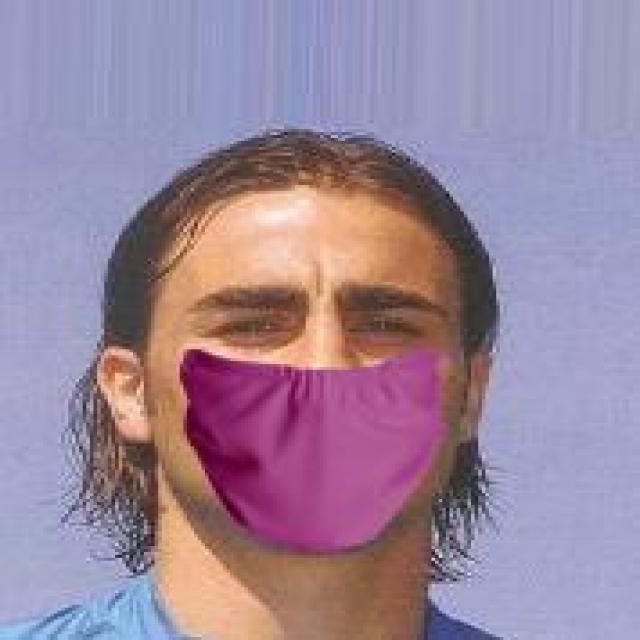mask: (72, 85, 590, 578)
